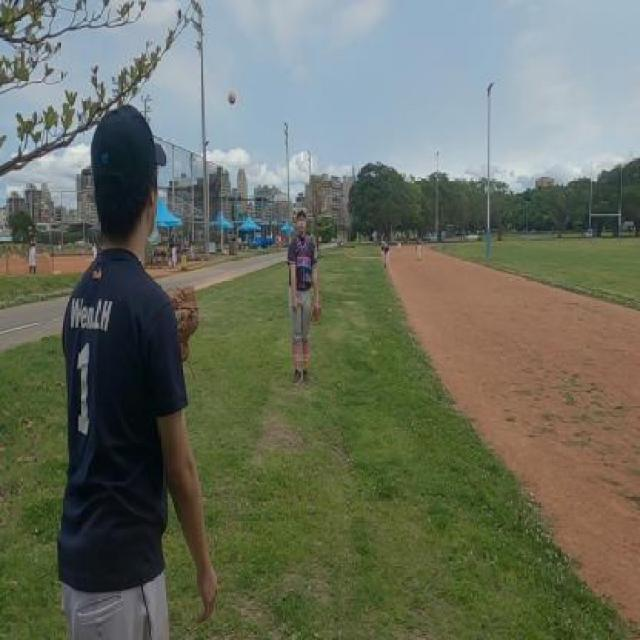baseball: (229, 91, 236, 104)
